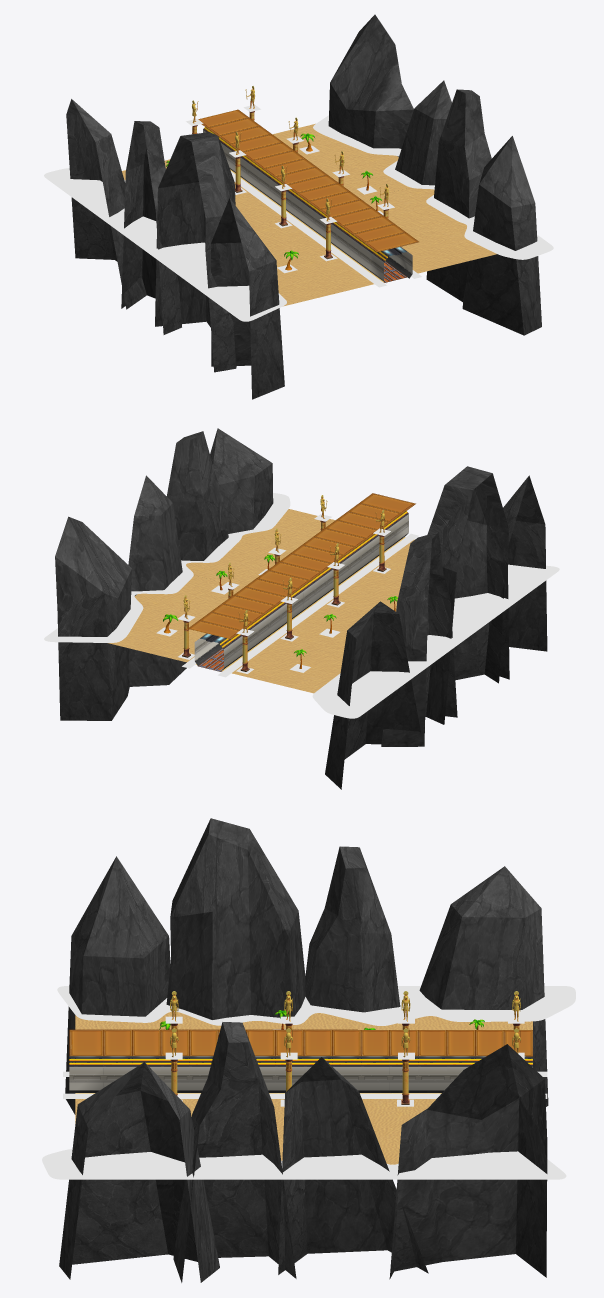
The model's file is Egypt_07.fbx.
3 views of the same model, one above another, from view 1: azimuth 30°, elevation 25°; view 2: azimuth 150°, elevation 25°; view 3: azimuth 270°, elevation 25° (orthographic). The views are drawn at different scales.
Parts seen in each view (by area): view 1: Egypt_07; view 2: Egypt_07; view 3: Egypt_07.
Part boxes in pixels (bbox=[...]): Egypt_07: bbox=[44, 14, 553, 399]; Egypt_07: bbox=[44, 428, 559, 789]; Egypt_07: bbox=[42, 818, 575, 1282].
Bounding box in the file's own units: 22617 × 13384 × 25170.
